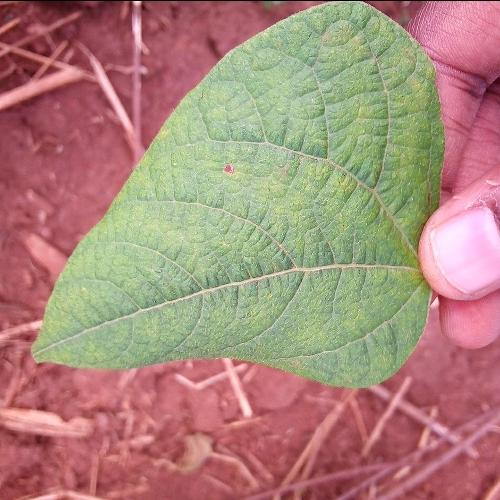mozaik: (154, 192, 368, 332), (252, 39, 401, 172), (66, 277, 136, 348)
